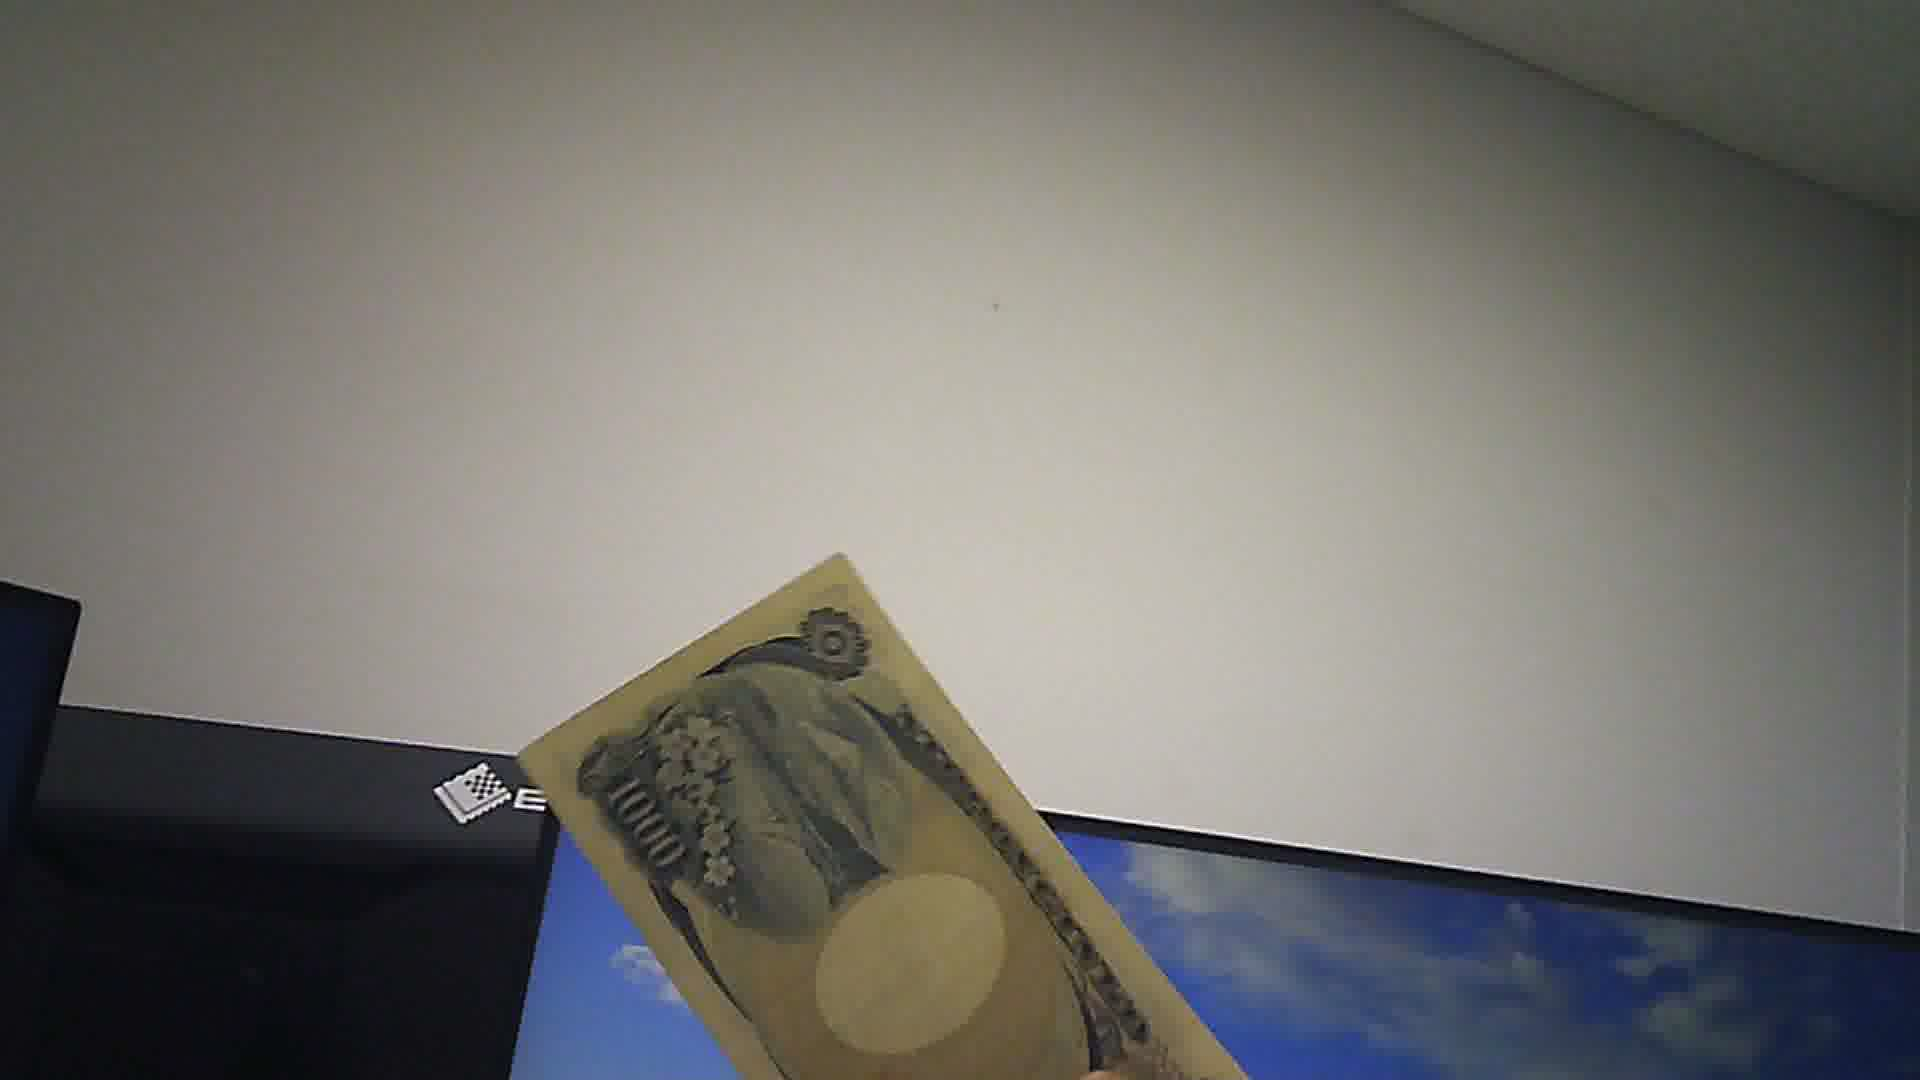1,000 Yen: (506, 545, 1247, 1079)
